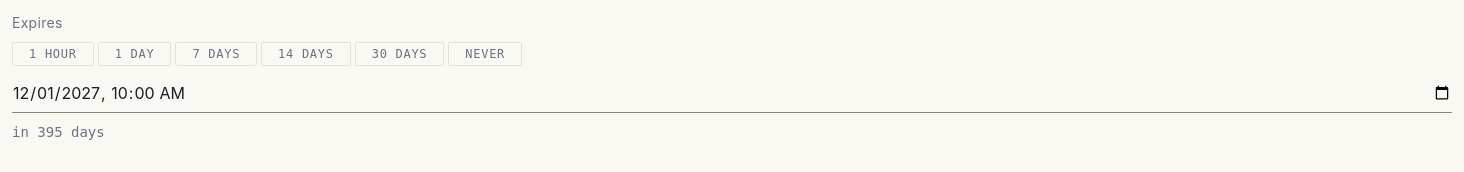
Test case: ExpiryPicker › does not turn a cleared field into "never"
This screenshot has width=1464, height=172.
Step 1. Clear the field named "Pick a date and time" → {"x": 732, "y": 93}, box top-left (12, 74), bottom-right (1452, 113)
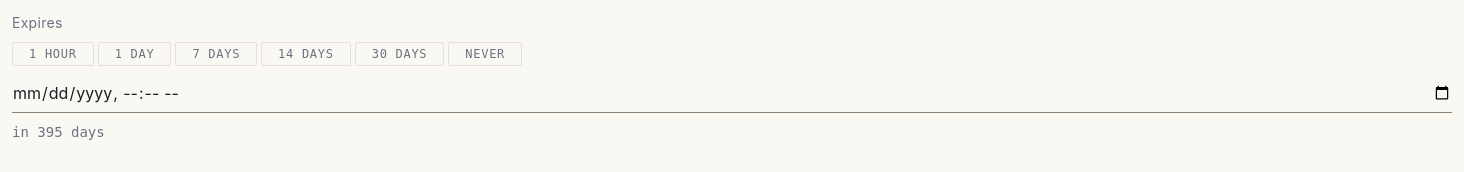
Step 2. Leave the field with placeholder "Pick a date and time", box top-left (12, 74), bottom-right (1452, 113)
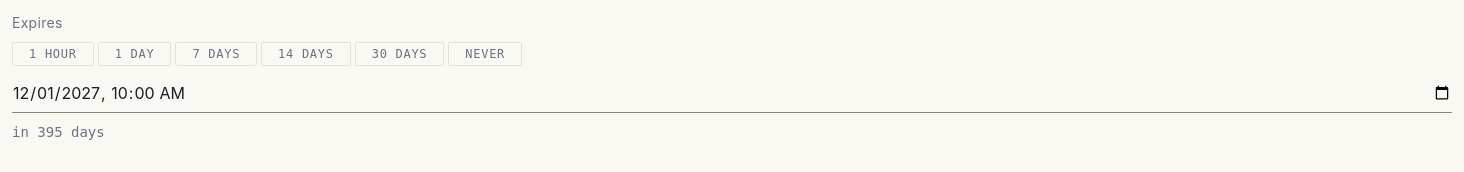
Check: the field named "Pick a date and time" holds "2027-12-01T10:00", box top-left (12, 74), bottom-right (1452, 113)
